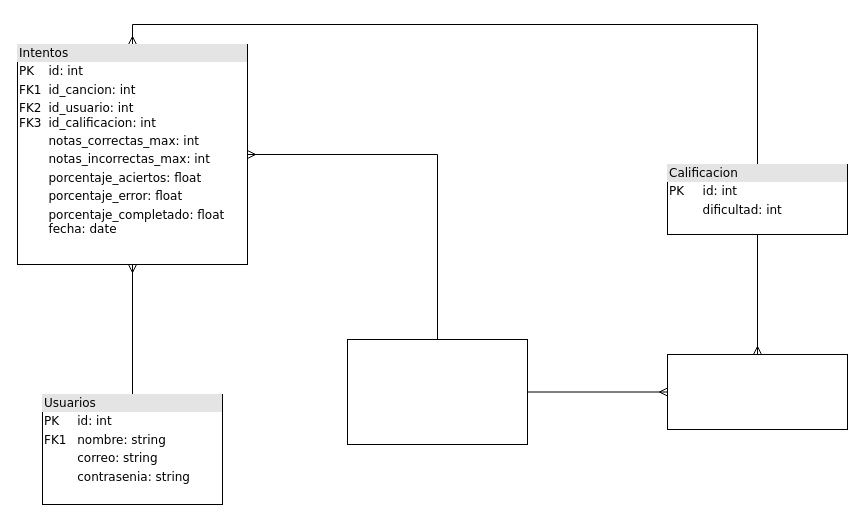
Some shapes in this 865 by 522 pixel diagram are drawn without their labels. Here are the shapes that lost their labels. From the top down, the centre of each, then its label:
At (x=437, y=391): "Cancion PK id: int nombre: string archivo: xml imagen: string".
At (x=757, y=392): "Cancion_Calificacion PK id_cancion: int PK id_calificacion: string".
